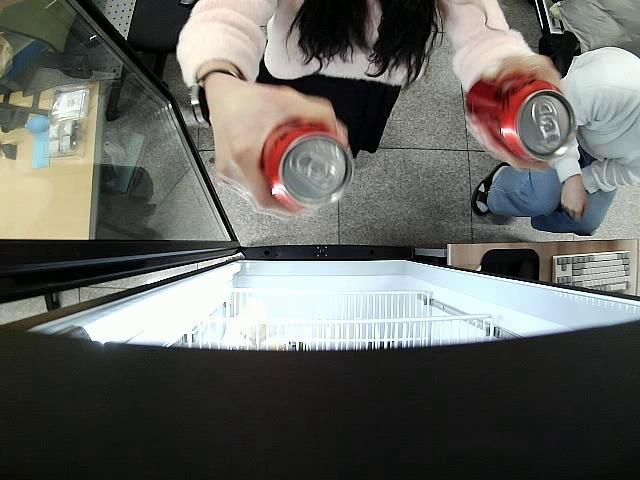11_cocaColaZero: (466, 74, 576, 163), (260, 116, 353, 216)
